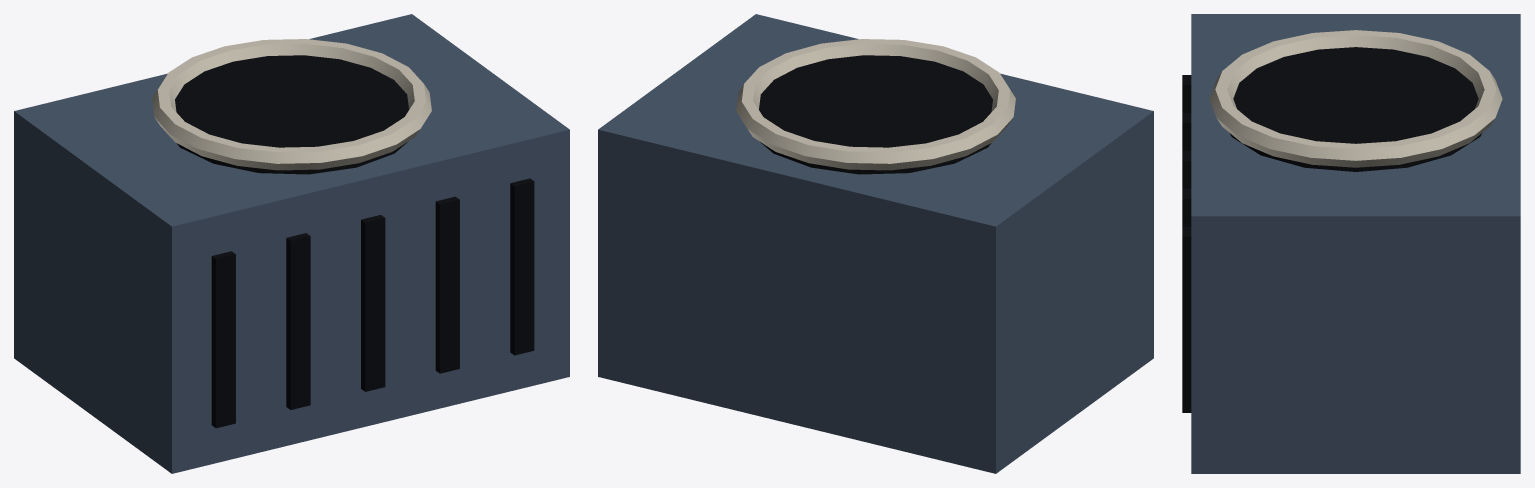
Rendered from roof_ac.glb.
3 renders of one model, left to right at view 1: azimuth 30°, elevation 25°; view 2: azimuth 150°, elevation 25°; view 3: azimuth 270°, elevation 25°, orthographic. The views are drawn at different scales.
Parts seen in each view (by area): view 1: roof_ac; view 2: roof_ac; view 3: roof_ac.
Boxes of the visible parts, bbox=[...] form: roof_ac: bbox=[14, 14, 569, 473]; roof_ac: bbox=[598, 14, 1153, 473]; roof_ac: bbox=[1182, 14, 1520, 473].
Bounding box in the file's own units: 1.6 × 1.04 × 1.13.
